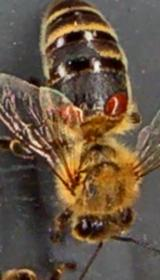varroa_mite: (95, 87, 130, 127)
